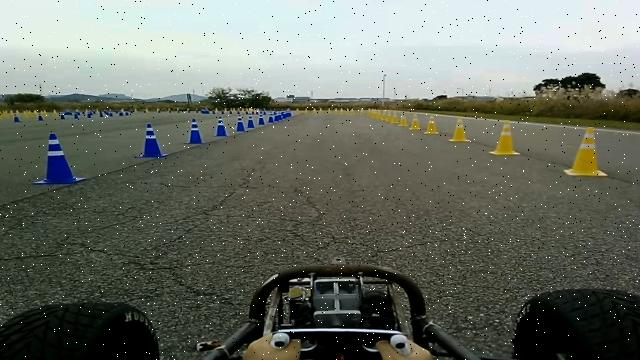blue cone: (32, 132, 86, 184), (136, 123, 168, 158), (183, 118, 206, 144), (213, 115, 229, 136), (234, 114, 246, 132), (246, 115, 255, 129), (267, 111, 275, 123), (274, 111, 282, 122), (282, 111, 292, 119), (258, 117, 264, 125)
yellow cone: (563, 126, 608, 176), (489, 120, 520, 156), (448, 116, 470, 142), (424, 115, 439, 134), (409, 114, 421, 130), (397, 112, 408, 126)
